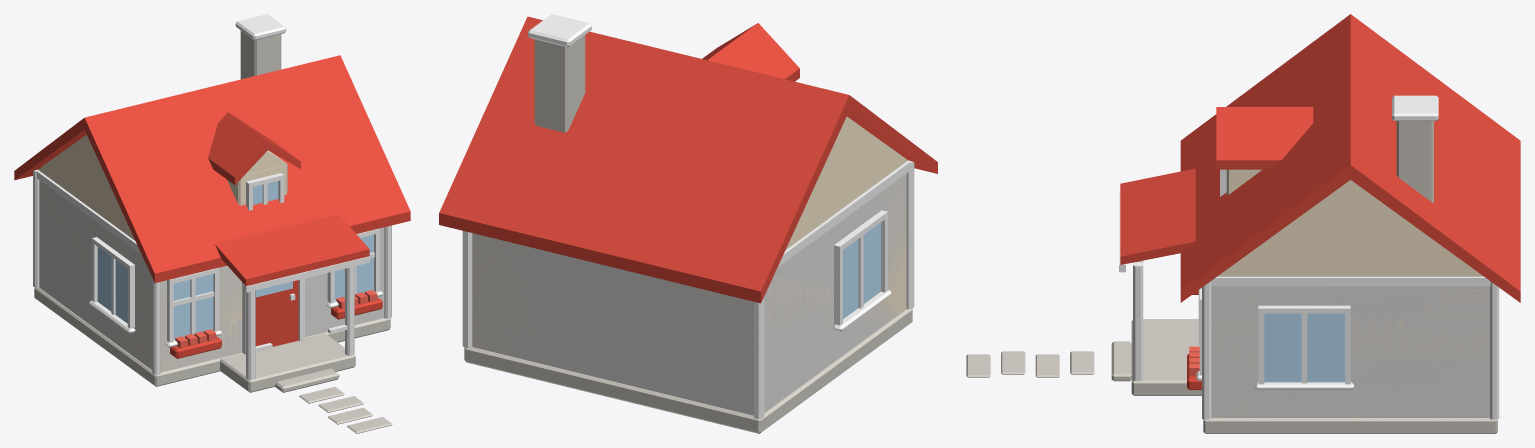
File: house-home.glb
The picture shows the model from 3 angles, left to right: view 1: azimuth 30°, elevation 25°; view 2: azimuth 150°, elevation 25°; view 3: azimuth 270°, elevation 25°; orthographic projection. The views are drawn at different scales.
Visible parts, largest first — view 1: house, COL_body; view 2: house, COL_body; view 3: house, COL_body.
Boxes of the visible parts, bbox=[...] form: house: bbox=[14, 14, 410, 433]; COL_body: bbox=[38, 170, 384, 372]; house: bbox=[439, 14, 937, 433]; COL_body: bbox=[472, 174, 906, 415]; house: bbox=[966, 14, 1520, 433]; COL_body: bbox=[1211, 276, 1489, 417].
Size of the model in its own units: 6.2 by 5.85 by 9.62.
